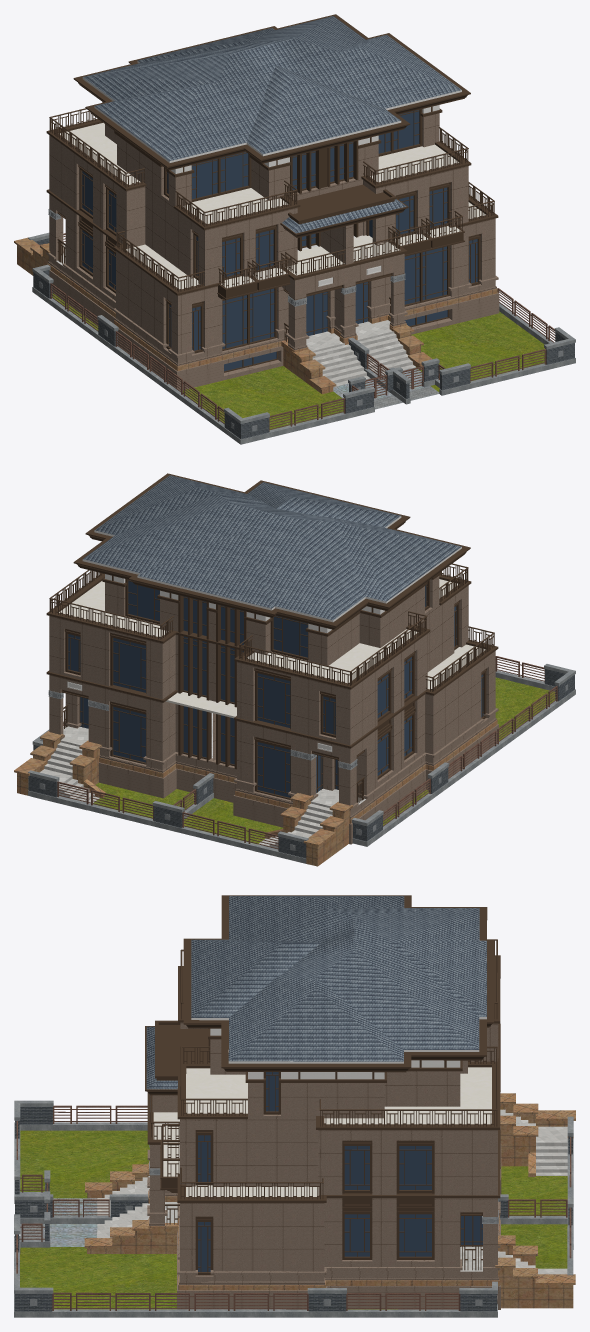
Rendered from courtyard-villa.glb.
3 renders of one model, top to bottom at view 1: azimuth 30°, elevation 25°; view 2: azimuth 150°, elevation 25°; view 3: azimuth 270°, elevation 25°, orthographic. The views are drawn at different scales.
Visible parts, largest first — view 1: Component14_13, Component_0, Component4_3, Component3_2, Component5_4, Component9_8, Component15_14, Component16_15, Component13_12, Component10_9, Component12_11, Component17_16 (+4 smaller); view 2: Component14_13, Component_0, Component4_3, Component5_4, Component3_2, Component16_15, Component10_9, Component17_16, Component15_14, Component13_12, Component9_8, Component12_11 (+3 smaller); view 3: Component_0, Component14_13, Component9_8, Component3_2, Component17_16, Component10_9, Component16_15, Component13_12, Component4_3, Component5_4, Component12_11, Component15_14 (+4 smaller).
Boxes of the visible parts, left/top/right/bottom form: Component14_13: left=49, top=113, right=495, bottom=354; Component_0: left=83, top=16, right=461, bottom=233; Component4_3: left=82, top=110, right=477, bottom=371; Component3_2: left=46, top=14, right=498, bottom=299; Component5_4: left=57, top=109, right=480, bottom=372; Component9_8: left=52, top=293, right=544, bottom=429; Component15_14: left=49, top=108, right=494, bottom=292; Component16_15: left=46, top=250, right=499, bottom=390; Component13_12: left=60, top=122, right=485, bottom=289; Component10_9: left=28, top=209, right=575, bottom=444; Component12_11: left=50, top=233, right=555, bottom=431; Component17_16: left=14, top=237, right=497, bottom=394; Component14_13: left=49, top=576, right=495, bottom=805; Component_0: left=83, top=475, right=461, bottom=620; Component4_3: left=68, top=580, right=483, bottom=797; Component5_4: left=61, top=579, right=486, bottom=802; Component3_2: left=46, top=473, right=498, bottom=748; Component16_15: left=60, top=708, right=498, bottom=844; Component10_9: left=28, top=664, right=575, bottom=863; Component17_16: left=14, top=720, right=497, bottom=866; Component15_14: left=49, top=563, right=494, bottom=691; Component13_12: left=59, top=579, right=485, bottom=718; Component9_8: left=93, top=677, right=555, bottom=844; Component12_11: left=57, top=656, right=557, bottom=850; Component_0: left=146, top=896, right=486, bottom=1089; Component14_13: left=150, top=1022, right=498, bottom=1271; Component9_8: left=20, top=1130, right=567, bottom=1309; Component3_2: left=145, top=895, right=500, bottom=1202; Component17_16: left=84, top=1093, right=575, bottom=1308; Component10_9: left=14, top=1100, right=573, bottom=1317; Component16_15: left=147, top=1104, right=501, bottom=1309; Component13_12: left=153, top=1067, right=491, bottom=1196; Component4_3: left=198, top=1072, right=482, bottom=1271; Component5_4: left=165, top=1039, right=482, bottom=1275; Component12_11: left=16, top=1105, right=571, bottom=1310; Component15_14: left=150, top=939, right=497, bottom=1199.
Bounding box in the file's own units: 17.86 × 12.94 × 22.34.
Materials: 18 (14 with a texture image).
